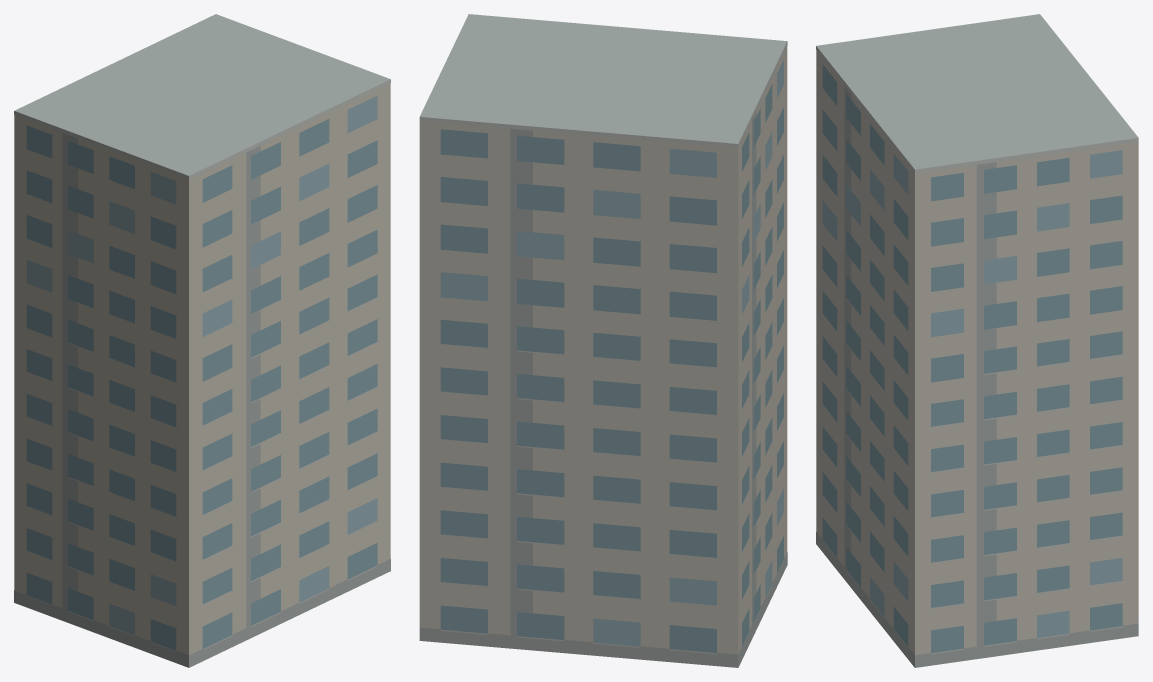
The model's file is residential-d371ebe9-ca90-4364-bf2b-feb55e922eaf.glb.
3 views of the same model, side by side, from view 1: azimuth 30°, elevation 25°; view 2: azimuth 150°, elevation 25°; view 3: azimuth 270°, elevation 25° (orthographic). The views are drawn at different scales.
Parts seen in each view (by area): view 1: residential-d371ebe9-ca90-4364-bf2b-feb55e922eaf.tmp; view 2: residential-d371ebe9-ca90-4364-bf2b-feb55e922eaf.tmp; view 3: residential-d371ebe9-ca90-4364-bf2b-feb55e922eaf.tmp.
Part boxes in pixels (bbox=[...]): residential-d371ebe9-ca90-4364-bf2b-feb55e922eaf.tmp: bbox=[14, 14, 390, 667]; residential-d371ebe9-ca90-4364-bf2b-feb55e922eaf.tmp: bbox=[419, 14, 787, 667]; residential-d371ebe9-ca90-4364-bf2b-feb55e922eaf.tmp: bbox=[816, 14, 1138, 667].
Bounding box in the file's own units: 20.11 × 30 × 17.61.
